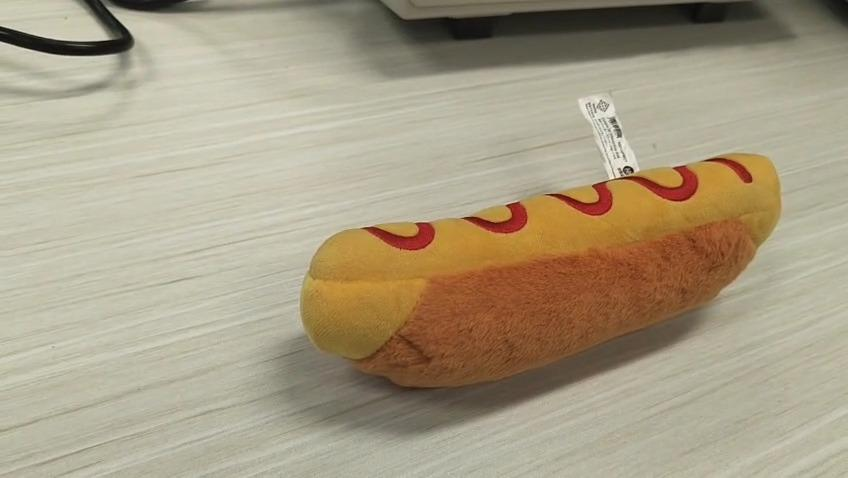hotdog: (299, 150, 782, 389)
